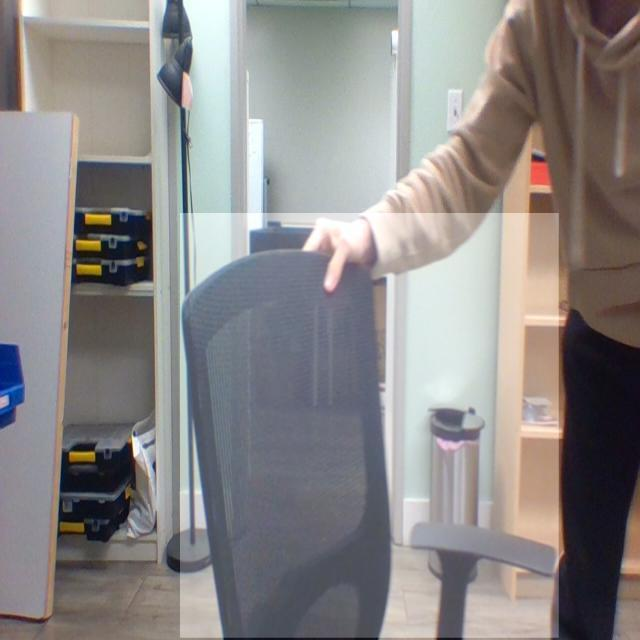chair: (180, 213, 560, 639)
